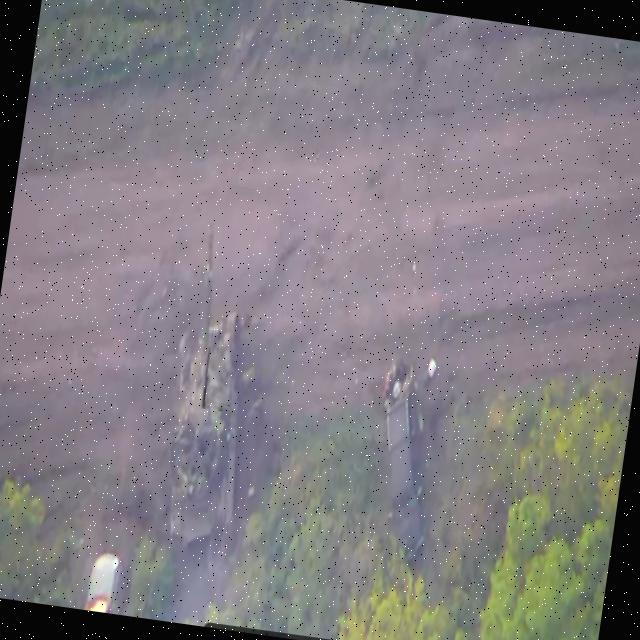MBT: (150, 217, 278, 558)
Vehicle: (362, 375, 449, 564)
